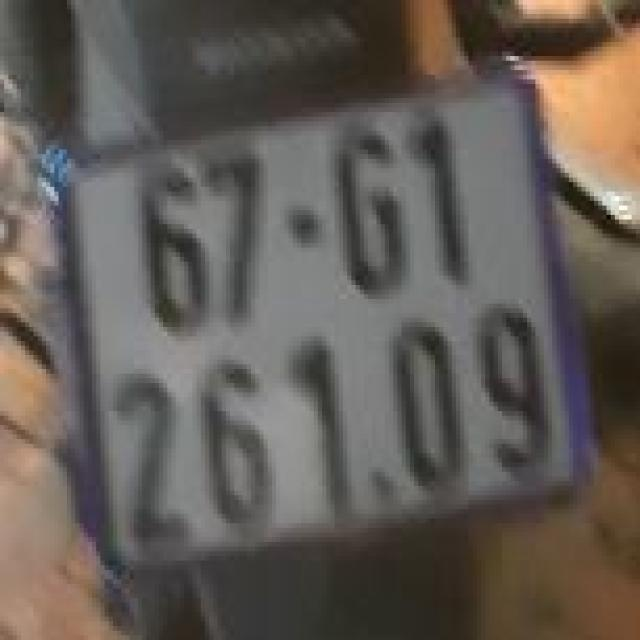0: (387, 308, 471, 496)
1: (289, 332, 364, 528), (410, 105, 489, 287)
2: (105, 360, 188, 551)
6: (134, 159, 217, 341), (192, 357, 280, 521)
7: (205, 140, 268, 341)
9: (472, 290, 560, 495)
G: (327, 105, 422, 301)
